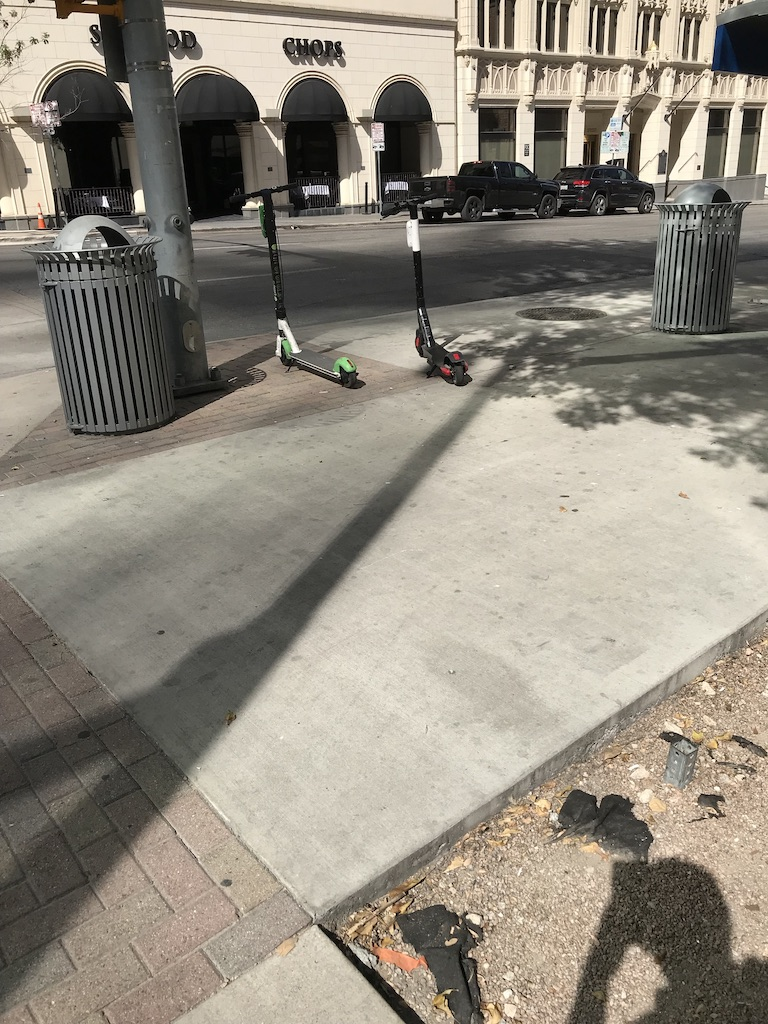scooter: (230, 183, 358, 390), (380, 192, 469, 387)
